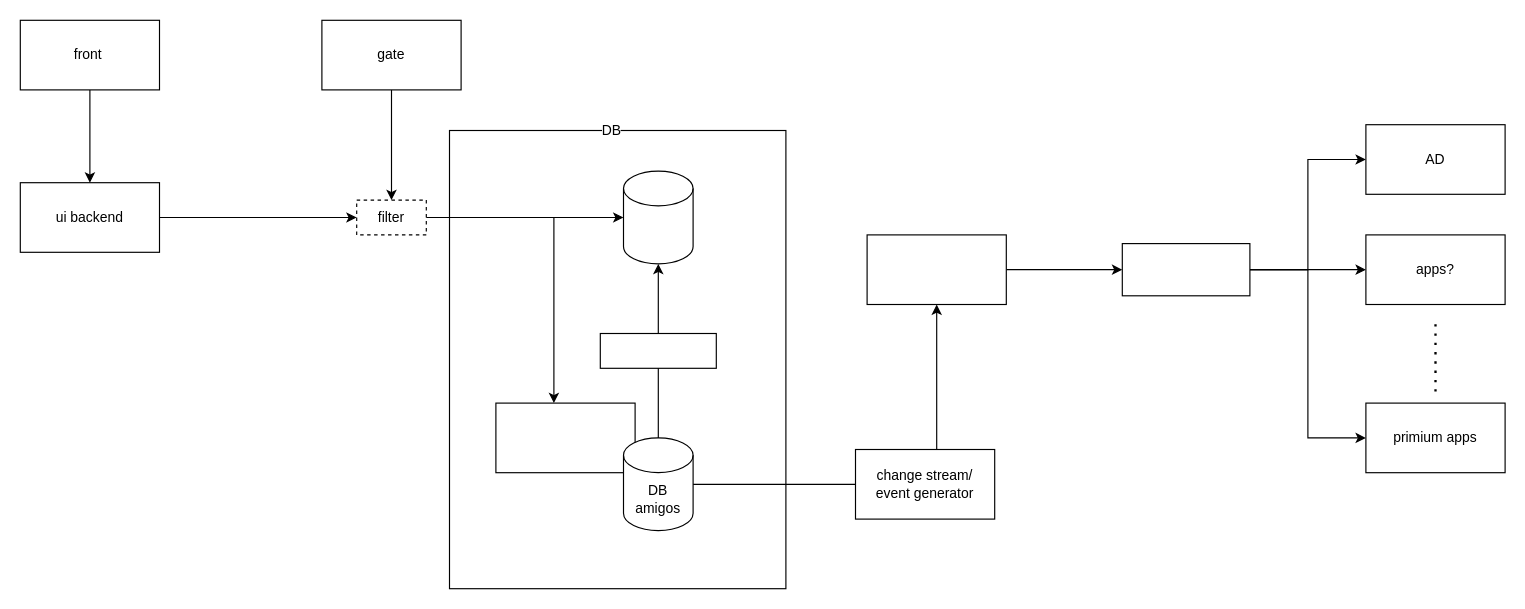
This 1525x609 diagram has some shape labels left out. The centre of each missing label's shape, as x and y in pixels:
db amigos manager: point 565,437
elastic: point 657,217
event publisher: point 936,269
monstch: point 657,350
rabbitMQ: point 1185,269
